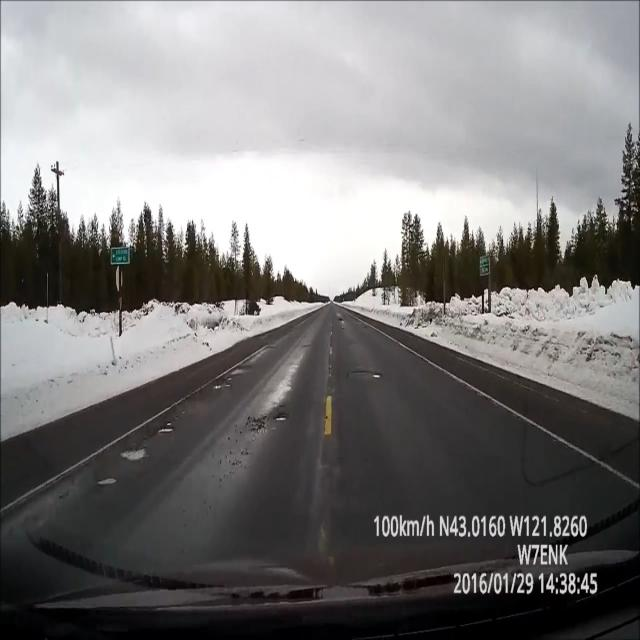Pothole: (113, 422, 178, 462), (252, 404, 295, 436)
